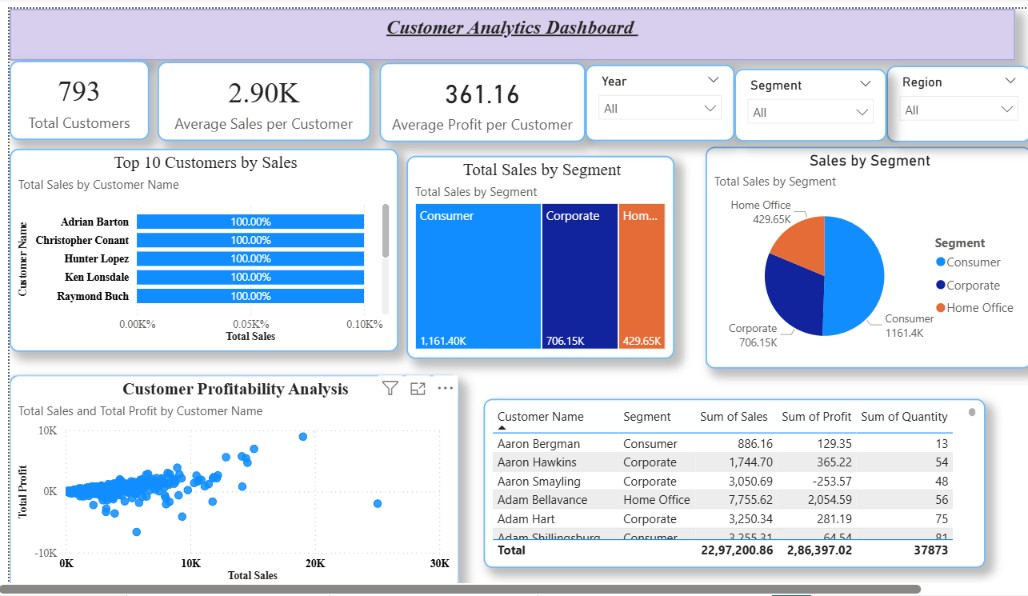

This screenshot's page, from the dashboard's own definition file:
{"tool":"powerbi","page":{"name":"Customer Analytics Dashboard","canvas":[1280,720],"ordinal":1},"visuals":[{"type":"textbox","box":[0,0,1117.8,57.8],"z":0},{"type":"card","fields":{"Values":["Sample - Superstore.Total Customers"]},"box":[0,57.8,155.6,87.8],"z":1000},{"type":"card","fields":{"Values":["Sample - Superstore.Average Sales per Customer"]},"box":[164.4,58.9,236.7,87.8],"z":2000},{"type":"card","fields":{"Values":["Sample - Superstore.Average Profit per Customer"]},"box":[411.1,60,228.9,87.8],"z":3000},{"type":"hundredPercentStackedBarChart","title":"Top 10 Customers by Sales","fields":{"Category":["Sample - Superstore.Customer Name"],"Y":["Sample - Superstore.Total Sales"]},"box":[0,155.6,432.2,225.6],"z":4000},{"type":"treemap","title":"Total Sales by Segment","fields":{"Group":["Sample - Superstore.Segment"],"Values":["Sample - Superstore.Total Sales"]},"box":[441.1,163.3,297.8,225.6],"z":5000},{"type":"scatterChart","title":"Customer Profitability Analysis","fields":{"Category":["Sample - Superstore.Customer Name"],"X":["Sample - Superstore.Total Sales"],"Y":["Sample - Superstore.Total Profit"]},"box":[0,406.7,498.9,240],"z":6000},{"type":"pieChart","title":"Sales by Segment","fields":{"Category":["Sample - Superstore.Segment"],"Y":["Sample - Superstore.Total Sales"]},"box":[773.3,153.3,362.2,246.7],"z":7000},{"type":"tableEx","fields":{"Values":["Sample - Superstore.Customer Name","Sample - Superstore.Segment","Sum(Sample - Superstore.Sales)","Sum(Sample - Superstore.Profit)","Sum(Sample - Superstore.Quantity)"]},"box":[526.7,433.3,557.8,187.8],"z":8000},{"type":"slicer","fields":{"Values":["Dim_Date.Year"]},"box":[640,62.2,165.6,84.4],"z":9000},{"type":"slicer","fields":{"Values":["Sample - Superstore.Region"]},"box":[974.4,63.3,161.1,84.4],"z":10000},{"type":"slicer","fields":{"Values":["Sample - Superstore.Segment"]},"box":[805.6,66.7,168.9,81.1],"z":11000}]}

Visuals, with their boxes in screenshot pixels (x1, y1, x2, y2), scaled from the page's 1280x720 canvas onto the 1028x596 screenshot:
textbox: detection(0, 0, 898, 48)
card - Sample - Superstore.Total Customers: detection(0, 48, 125, 121)
card - Sample - Superstore.Average Sales per Customer: detection(132, 49, 322, 121)
card - Sample - Superstore.Average Profit per Customer: detection(330, 50, 514, 122)
"Top 10 Customers by Sales" hundredPercentStackedBarChart: detection(0, 129, 347, 316)
"Total Sales by Segment" treemap: detection(354, 135, 593, 322)
"Customer Profitability Analysis" scatterChart: detection(0, 337, 401, 535)
"Sales by Segment" pieChart: detection(621, 127, 912, 331)
tableEx - Sample - Superstore.Customer Name x Sample - Superstore.Segment: detection(423, 359, 871, 514)
slicer - Dim_Date.Year: detection(514, 51, 647, 121)
slicer - Sample - Superstore.Region: detection(783, 52, 912, 122)
slicer - Sample - Superstore.Segment: detection(647, 55, 783, 122)
